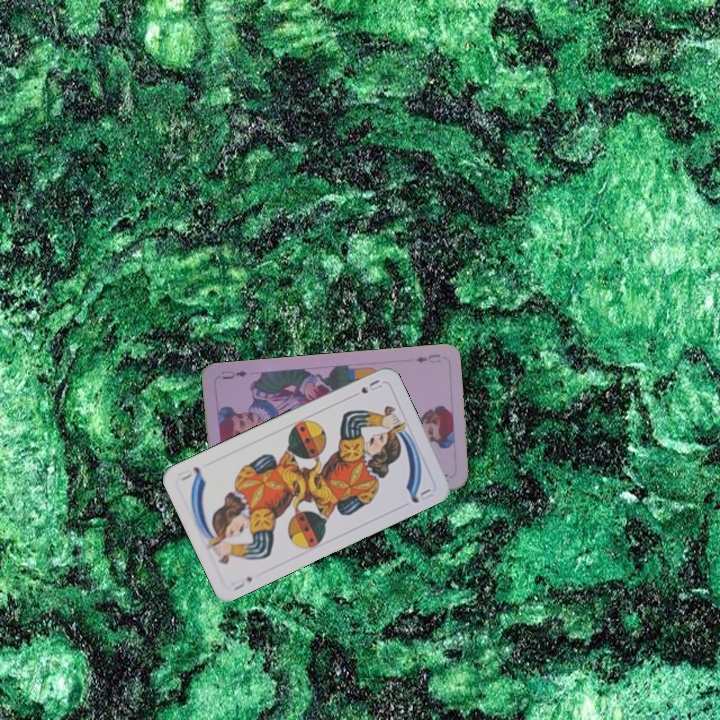EU: (411, 350, 443, 365)
SU: (357, 375, 385, 396), (227, 572, 255, 593)
